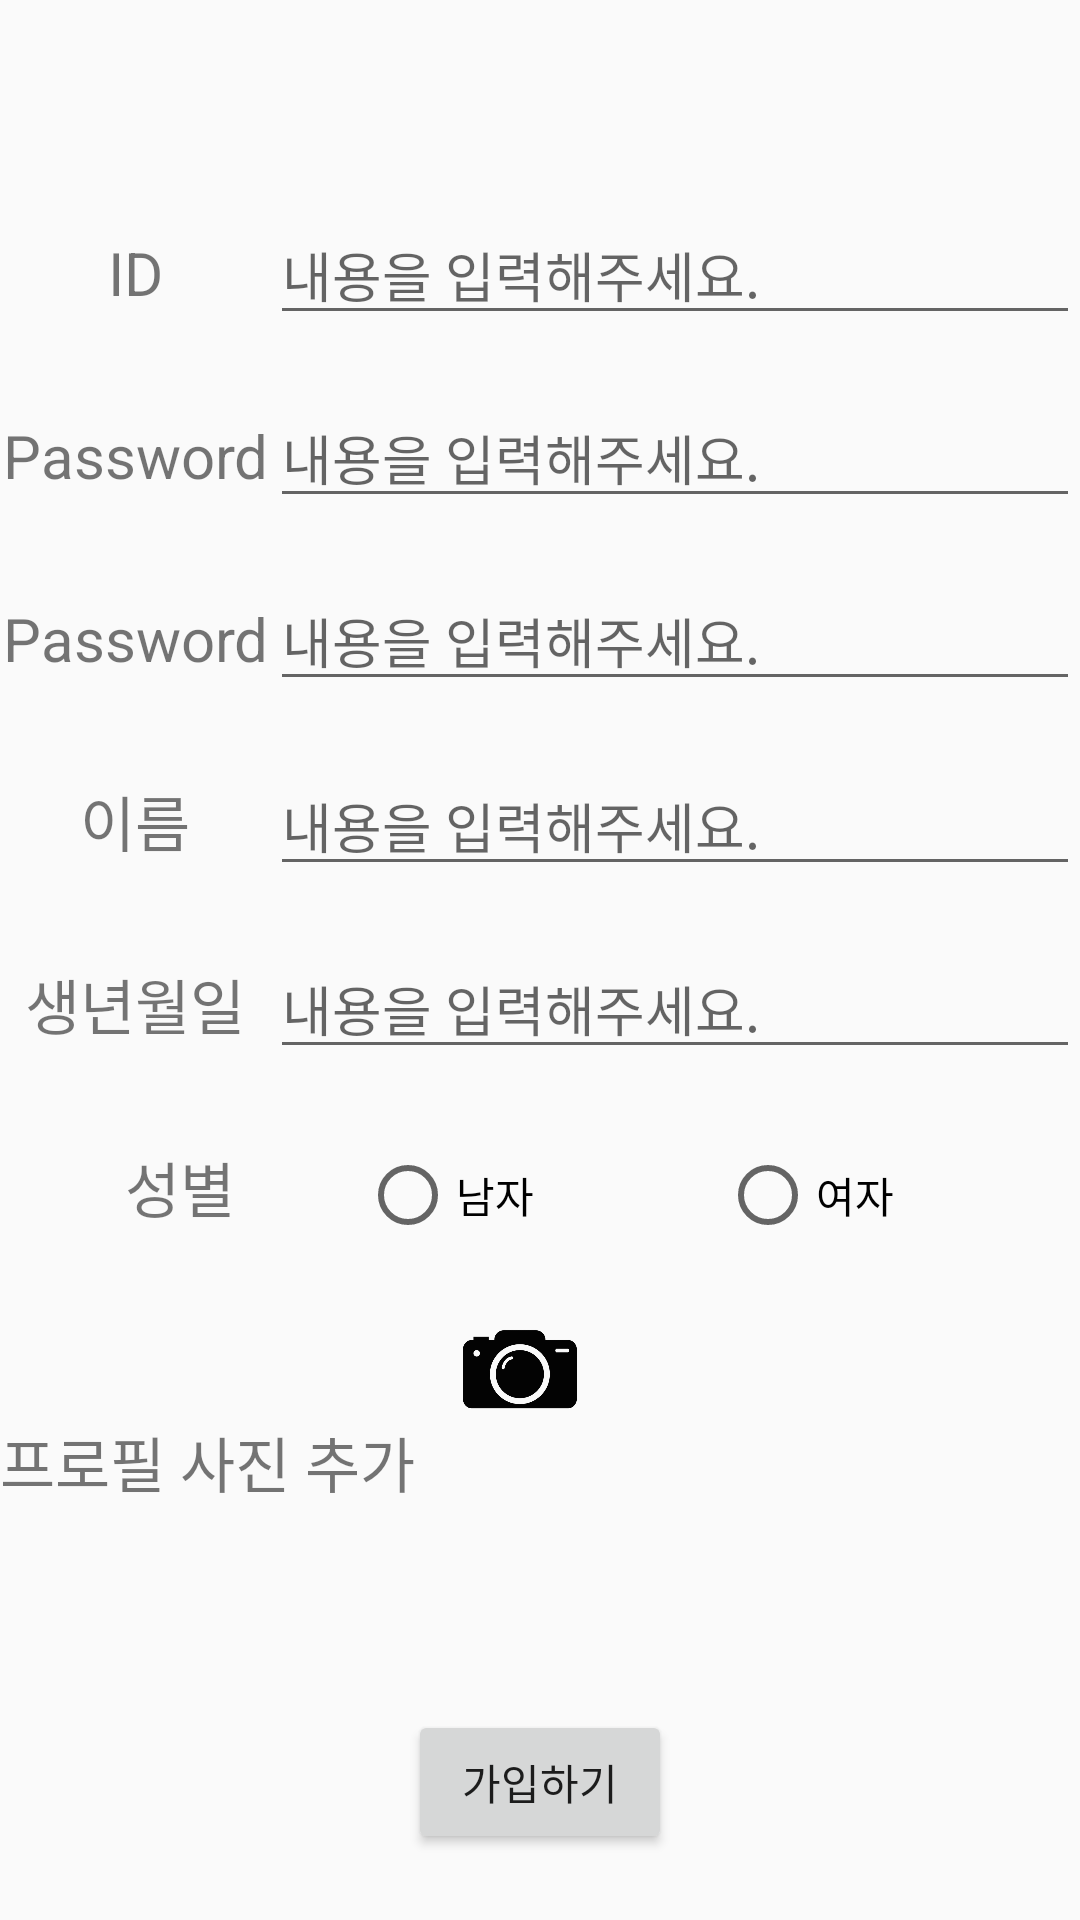

Icon bounding boxes for this 1080 x 1920 phone screenshot, format {"left": x1, "top": y1, "right": x2, "bottom": y2}:
camera: {"left": 463, "top": 1330, "right": 577, "bottom": 1409}
